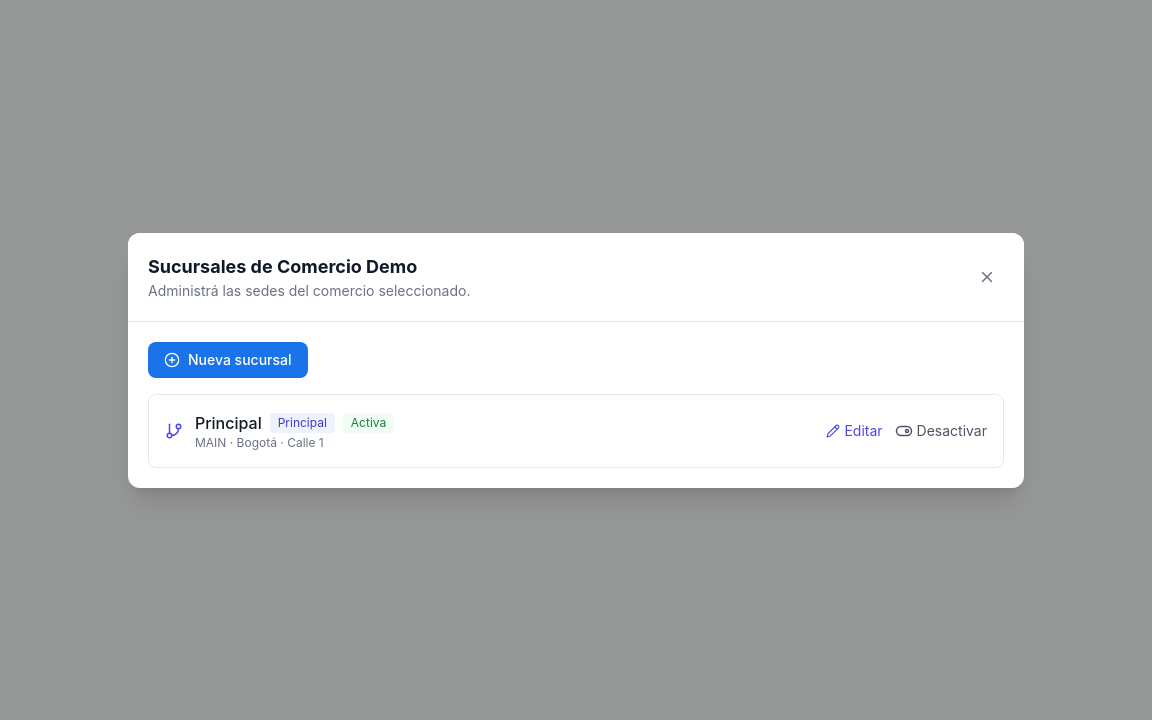
Scenario: CompanyBranchesPanel › displays backend conflicts without inventing a successful state
What coordinates should you click on to do the following:
click the button "Desactivar"
I would click on:
 (941, 430)
Its box is [895,420,987,440].
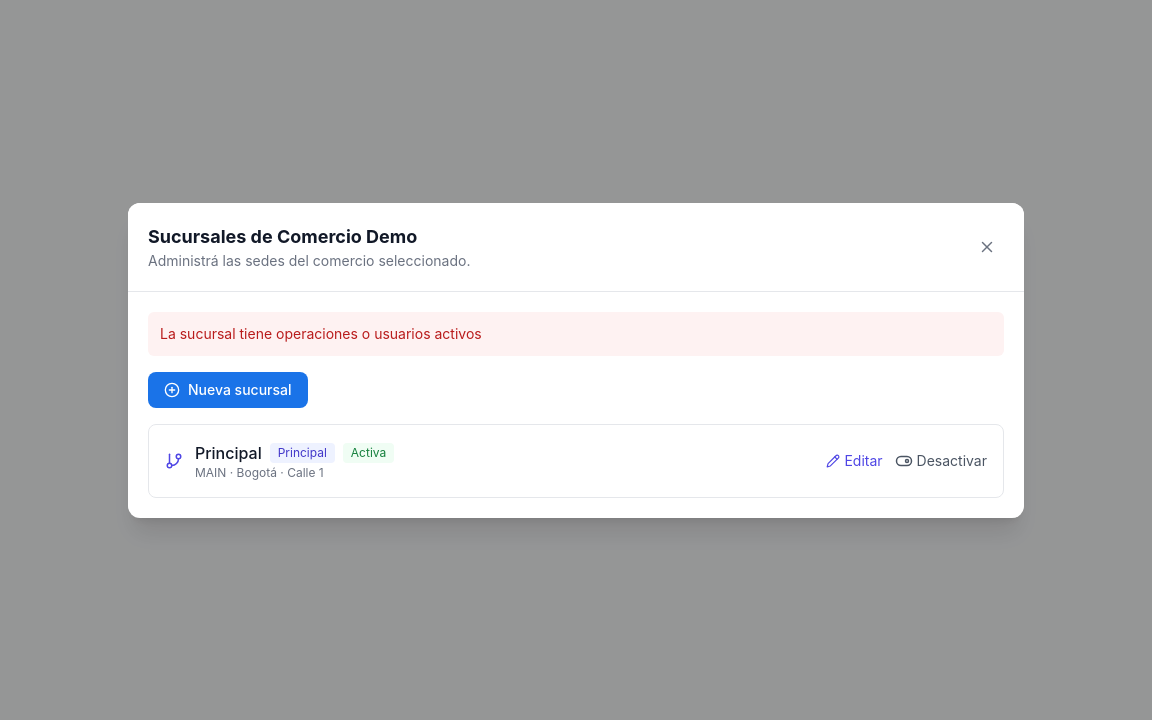
Check: the message reads "La sucursal tiene operaciones o usuarios activos", box [160,324,482,342]
